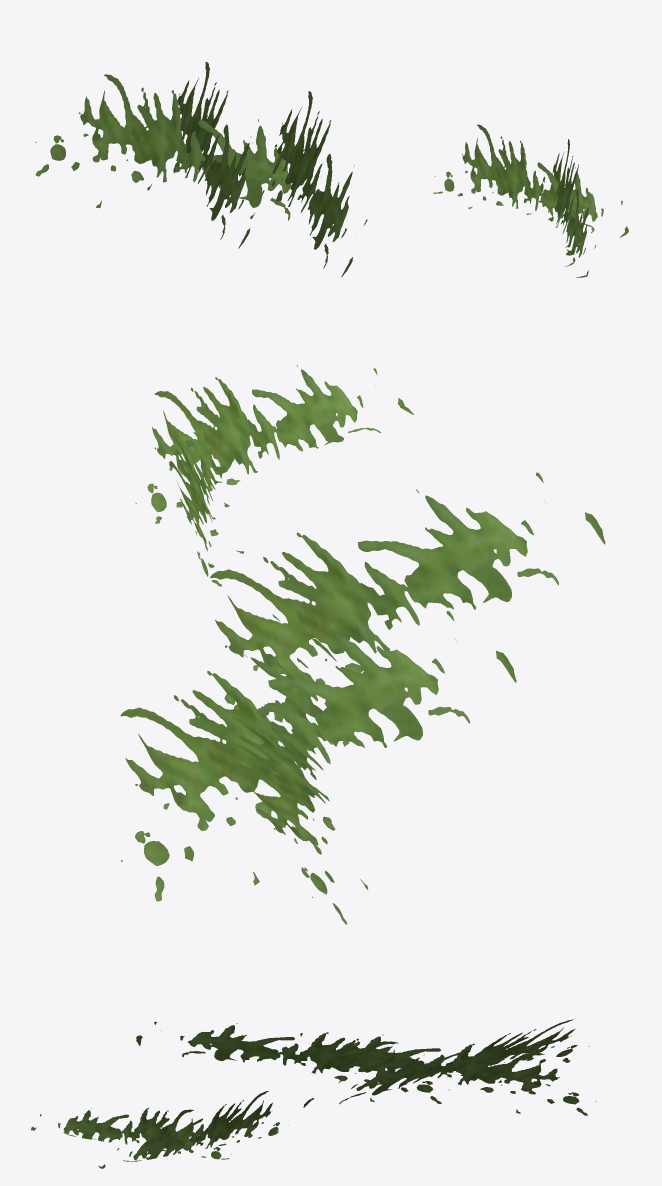
File: zhiwu_07.FBX
The picture shows the model from 3 angles, top to bottom: view 1: azimuth 30°, elevation 25°; view 2: azimuth 150°, elevation 25°; view 3: azimuth 270°, elevation 25°; orthographic projection. The views are drawn at different scales.
Parts seen in each view (by area): view 1: zhiwu_07; view 2: zhiwu_07; view 3: zhiwu_07.
Part boxes in pixels (x1,y1,x2,y2): zhiwu_07: [35, 62, 628, 277]; zhiwu_07: [120, 365, 605, 924]; zhiwu_07: [31, 1019, 595, 1168].
Size of the model in its own units: 1.1 by 0.4427 by 1.75.
